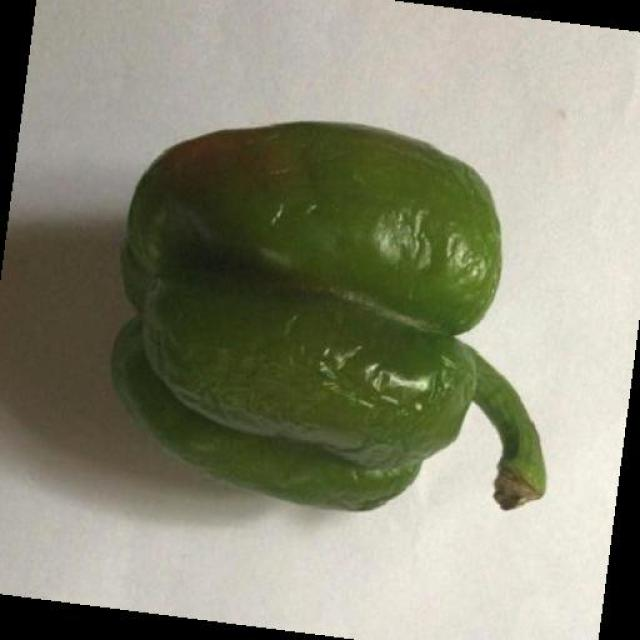Stale_Capsicum: (138, 120, 511, 519)
